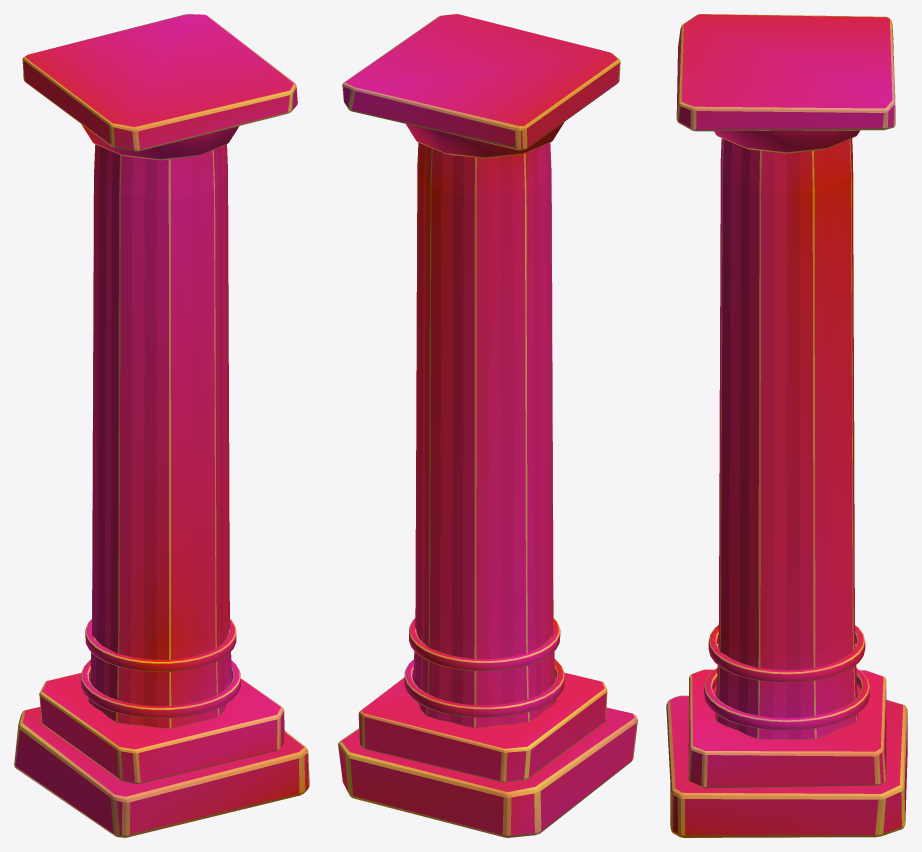
File: SM_Pillar.fbx
3 renders of one model, left to right at view 1: azimuth 30°, elevation 25°; view 2: azimuth 150°, elevation 25°; view 3: azimuth 270°, elevation 25°, orthographic. The views are drawn at different scales.
Parts seen in each view (by area): view 1: SM_Pillar; view 2: SM_Pillar; view 3: SM_Pillar.
Part boxes in pixels (x1,y1,x2,y2): SM_Pillar: [14, 14, 309, 837]; SM_Pillar: [338, 14, 637, 837]; SM_Pillar: [666, 14, 907, 837].
Size of what is drawn, in the model's own units: 105 by 105 by 351.
